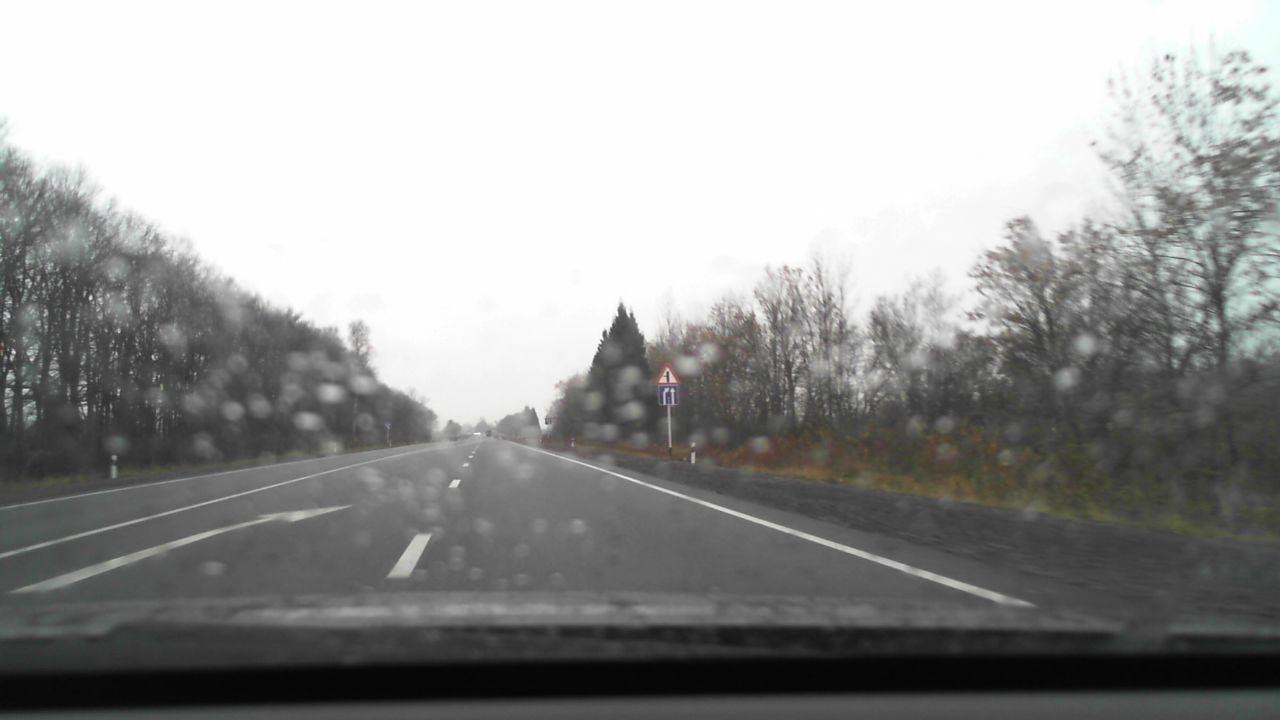2_3_3: (655, 361, 681, 385)
5_15_6: (660, 386, 678, 407)
